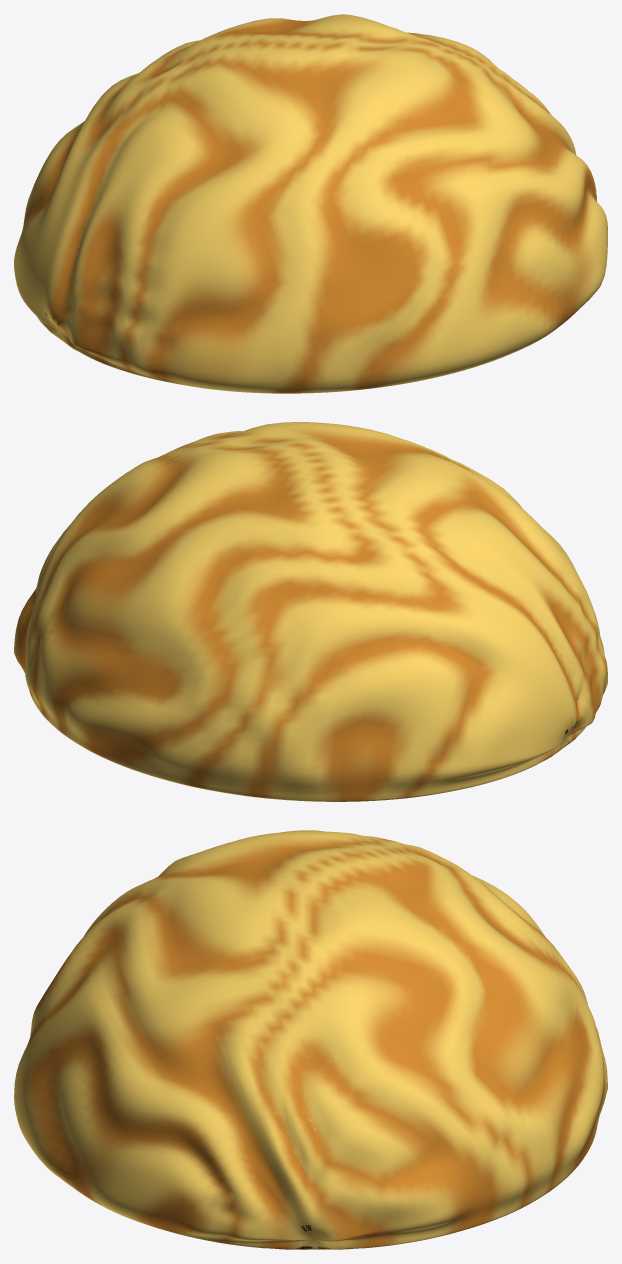
File: coral_brain.glb
3 views of the same model, one above another, from view 1: azimuth 30°, elevation 25°; view 2: azimuth 150°, elevation 25°; view 3: azimuth 270°, elevation 25° (orthographic). The views are drawn at different scales.
Parts seen in each view (by area): view 1: CoralBrain; view 2: CoralBrain; view 3: CoralBrain.
Boxes of the visible parts, x1,y1,x2,y2 form: CoralBrain: (14, 14, 607, 393); CoralBrain: (14, 422, 607, 801); CoralBrain: (14, 830, 607, 1249).
Bounding box in the file's own units: 1.42 × 0.6017 × 1.29.
Materials: 1 (1 with a texture image).
